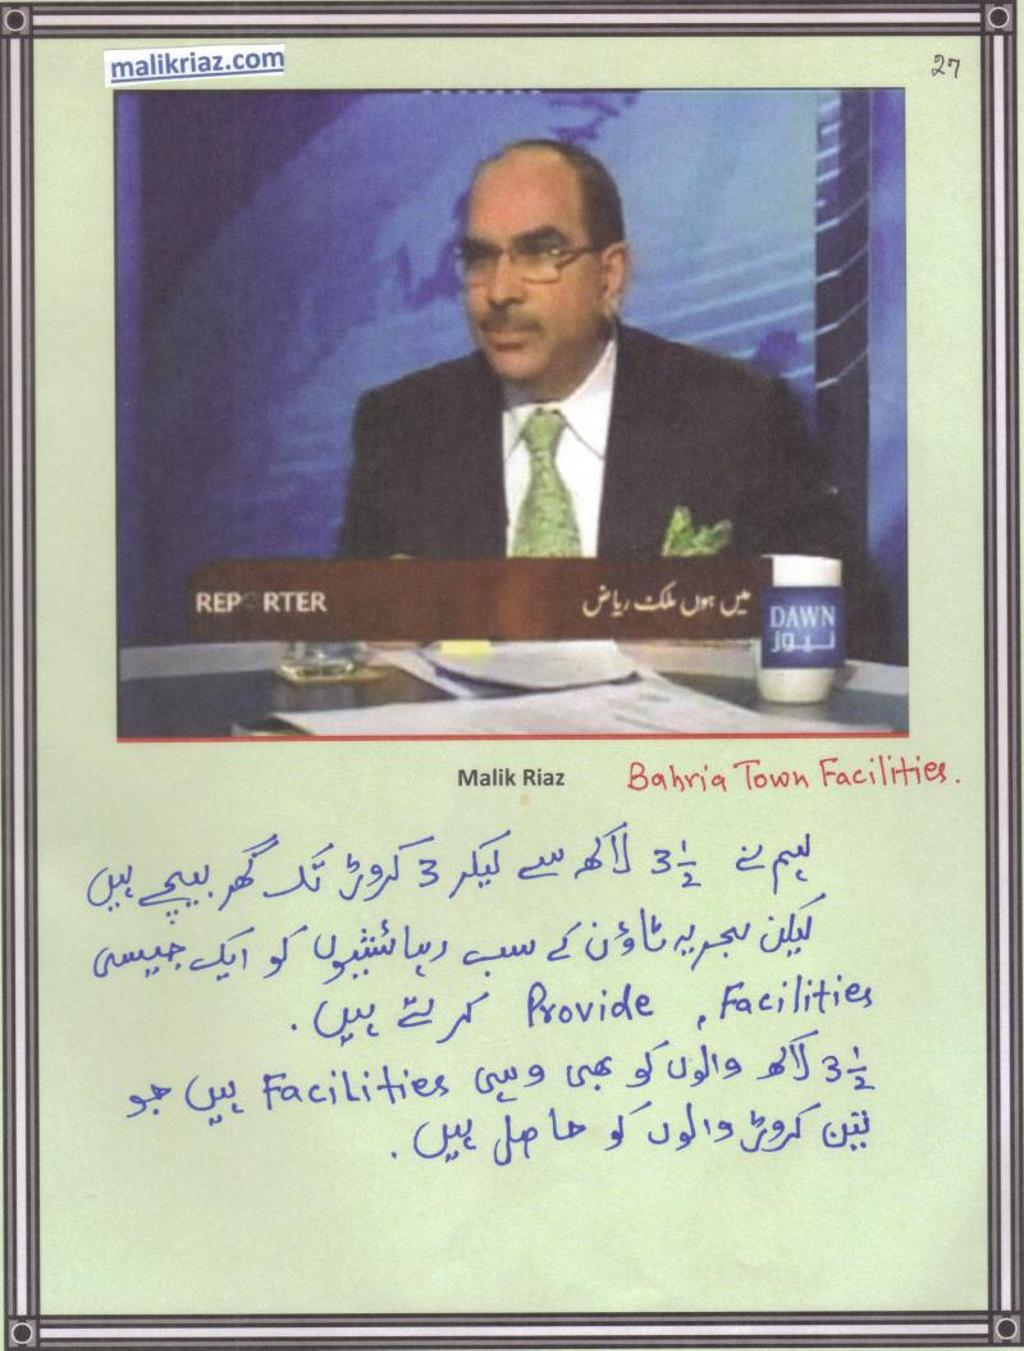face: (462, 174, 597, 377)
